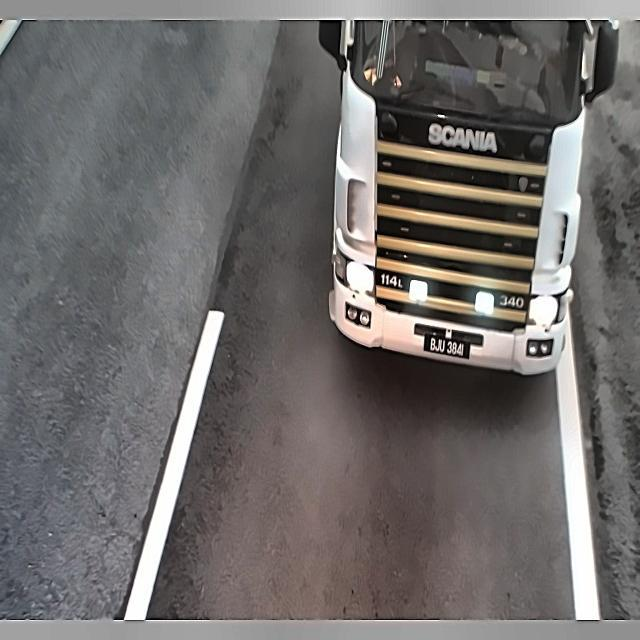car: (420, 326, 476, 367)
